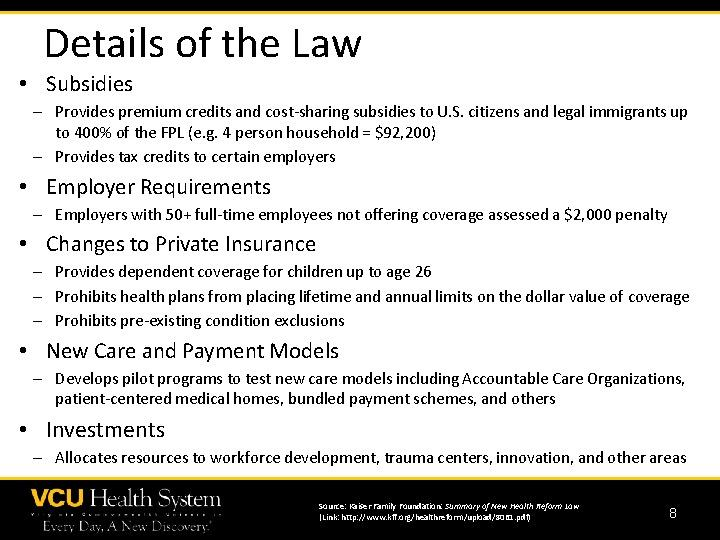paragraph: (8, 70, 720, 469)
subtitle: (25, 485, 657, 540)
title: (36, 22, 380, 66)
